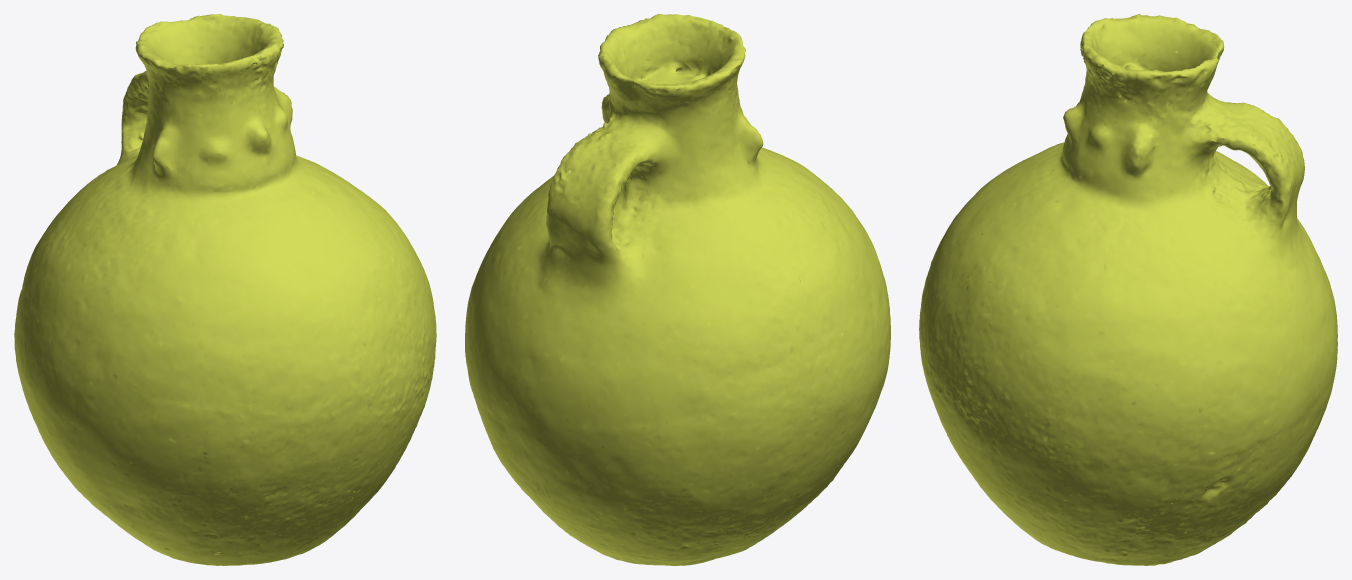
3 renders of one model, left to right at view 1: azimuth 30°, elevation 25°; view 2: azimuth 150°, elevation 25°; view 3: azimuth 270°, elevation 25°, orthographic.
Visible parts, largest first — view 1: Object_2; view 2: Object_2; view 3: Object_2.
Boxes of the visible parts, box(x1,y1,x2,y2) form: Object_2: box(14, 14, 436, 565); Object_2: box(465, 14, 890, 565); Object_2: box(919, 14, 1337, 565).
Bounding box in the file's own units: 0.7606 × 1 × 0.7635.
